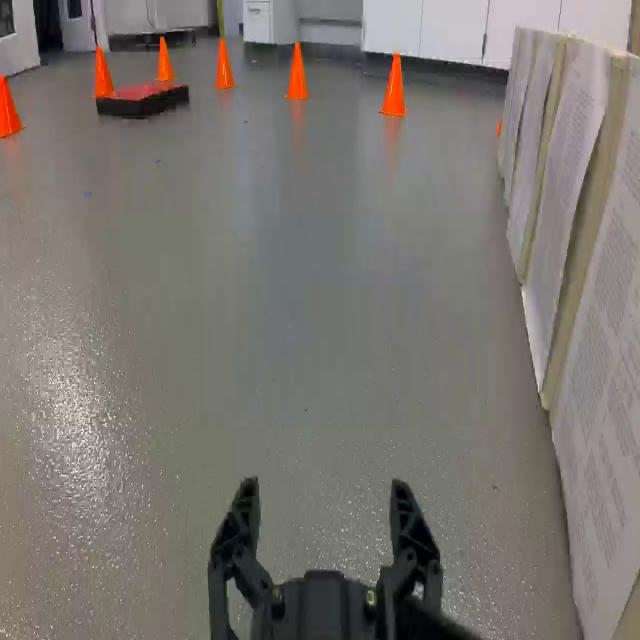cone: (379, 51, 408, 123), (0, 66, 28, 140), (283, 34, 311, 104), (90, 39, 119, 97), (212, 37, 239, 89), (156, 36, 175, 81)
red: (94, 76, 192, 121)
storage cube: (548, 53, 640, 640), (516, 21, 616, 430), (506, 18, 561, 287), (507, 22, 536, 206), (499, 22, 513, 184)
